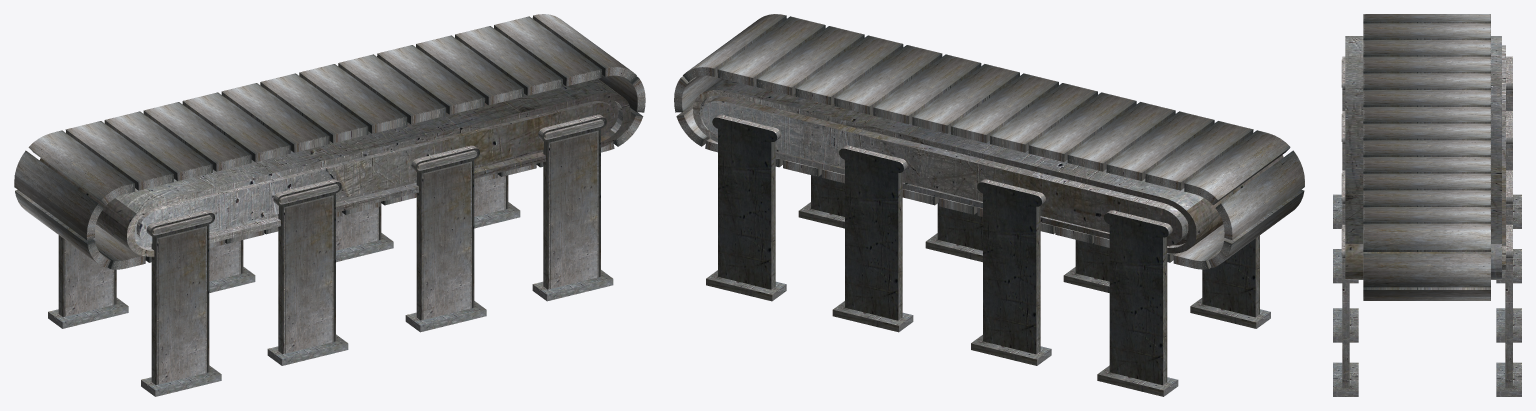
The model's file is belt2.fbx.
3 views of the same model, side by side, from view 1: azimuth 30°, elevation 25°; view 2: azimuth 150°, elevation 25°; view 3: azimuth 270°, elevation 25° (orthographic). The views are drawn at different scales.
Parts seen in each view (by area): view 1: Plane.024, Plane.010, Plane.004, Plane.001, Plane.002, Plane.023, Plane.006, Plane.008, Plane.005, Plane.007; view 2: Plane.024, Plane.010, Plane.006, Plane.008, Plane.005, Plane.007, Plane.001, Plane.004, Plane.002, Plane.023; view 3: Plane.024, Plane.010, Plane.005, Plane.023, Plane.008, Plane.004, Plane.007, Plane.006, Plane.002, Plane.001.
Boxes of the visible parts, bbox=[...] form: Plane.024: bbox=[14, 14, 645, 269]; Plane.010: bbox=[39, 78, 630, 256]; Plane.004: bbox=[405, 145, 486, 332]; Plane.001: bbox=[141, 210, 221, 396]; Plane.002: bbox=[267, 179, 348, 365]; Plane.023: bbox=[532, 114, 613, 301]; Plane.006: bbox=[48, 235, 128, 328]; Plane.008: bbox=[336, 203, 393, 262]; Plane.005: bbox=[474, 174, 520, 228]; Plane.007: bbox=[209, 240, 255, 292]; Plane.024: bbox=[674, 14, 1304, 269]; Plane.010: bbox=[693, 79, 1283, 253]; Plane.006: bbox=[1097, 210, 1178, 396]; Plane.008: bbox=[832, 145, 913, 332]; Plane.005: bbox=[706, 114, 786, 301]; Plane.007: bbox=[971, 179, 1051, 365]; Plane.001: bbox=[1190, 235, 1270, 328]; Plane.004: bbox=[925, 203, 982, 262]; Plane.002: bbox=[1063, 240, 1109, 292]; Plane.023: bbox=[798, 174, 844, 228]; Plane.024: bbox=[1363, 14, 1490, 300]; Plane.010: bbox=[1345, 36, 1505, 279]; Plane.005: bbox=[1496, 224, 1521, 396]; Plane.023: bbox=[1333, 224, 1358, 396]; Plane.008: bbox=[1496, 170, 1521, 342]; Plane.004: bbox=[1333, 170, 1358, 342]; Plane.007: bbox=[1496, 111, 1521, 283]; Plane.006: bbox=[1506, 56, 1521, 228]; Plane.002: bbox=[1333, 111, 1358, 283]; Plane.001: bbox=[1333, 56, 1345, 228].
Size of the model in its own units: 1424 by 491 by 474.
Materials: 3 (3 with a texture image).
